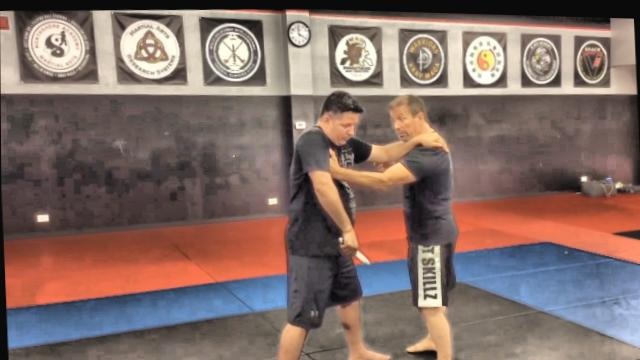knife: (336, 232, 371, 266)
